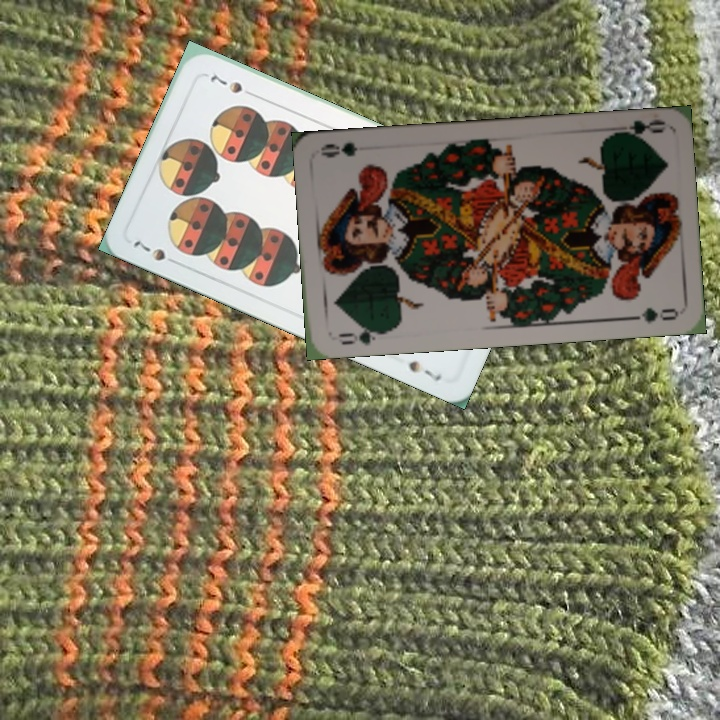GO: (607, 114, 666, 143), (334, 321, 389, 348)
S7: (129, 236, 169, 264)
